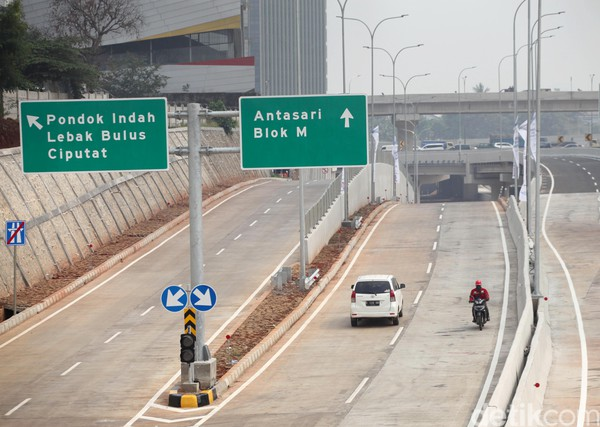car: (350, 275, 405, 330)
motorbike: (471, 279, 493, 333)
